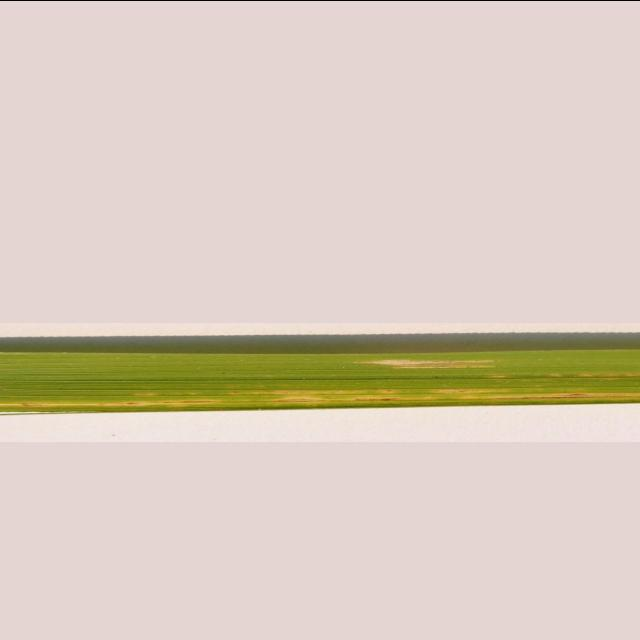Bacterial leaf blight: (0, 322, 640, 441)
